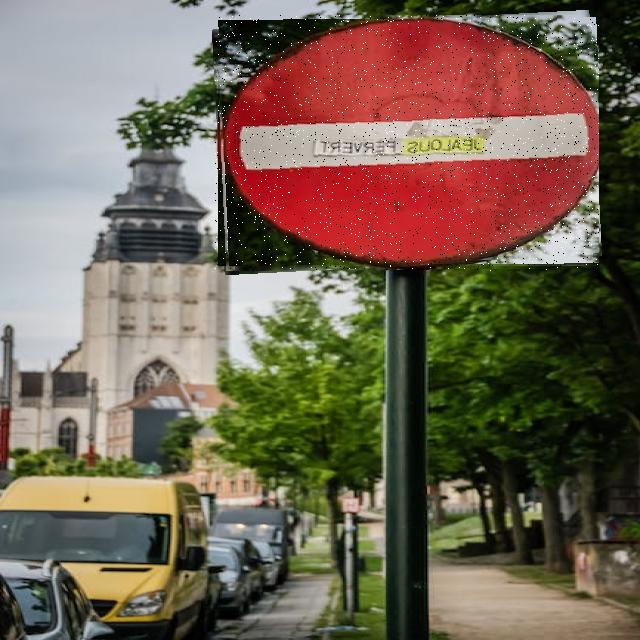no entry: (215, 15, 599, 271)
